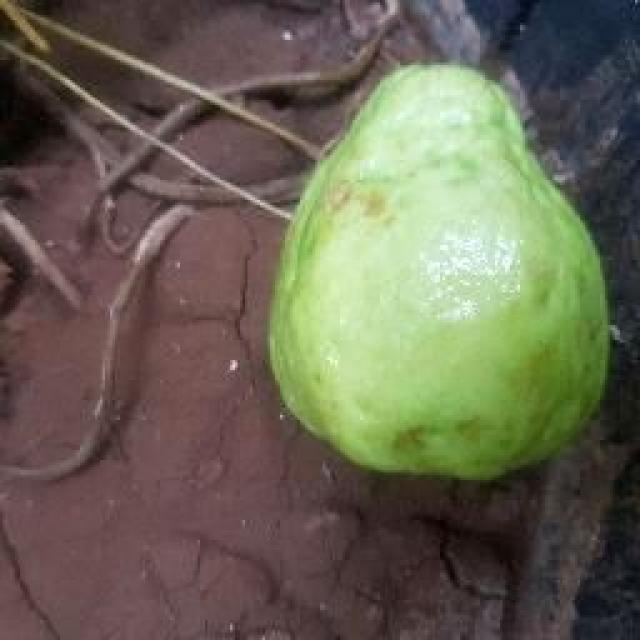Good_Guava: (265, 62, 610, 485)
